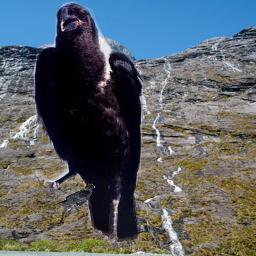Crow: (32, 1, 145, 249), (55, 183, 95, 212)
